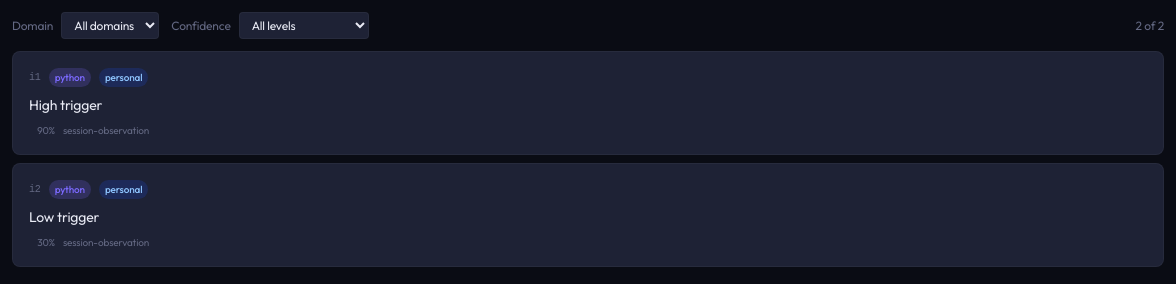
Test: InstinctFeed › filters by confidence level (high)
Select "High (≥80%)" in the dropdown labelled "Confidence" at {"x": 304, "y": 26}, box [239, 12, 369, 39]
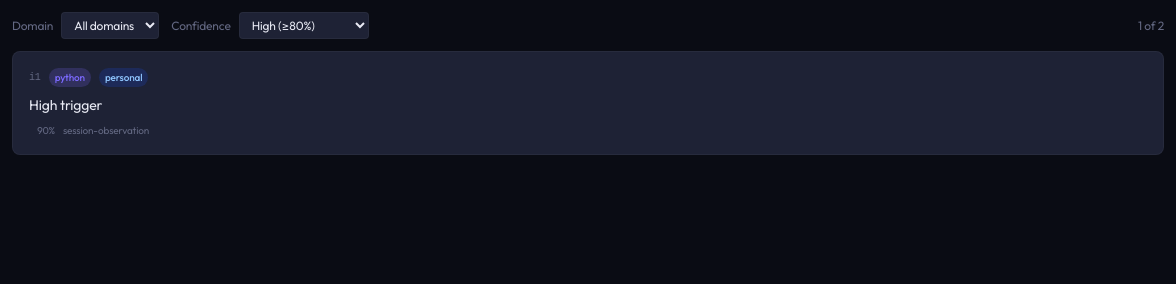
Check: the text "High trigger" is shown, box [29, 95, 102, 115]
Check: the button "Low trigger" is gone
